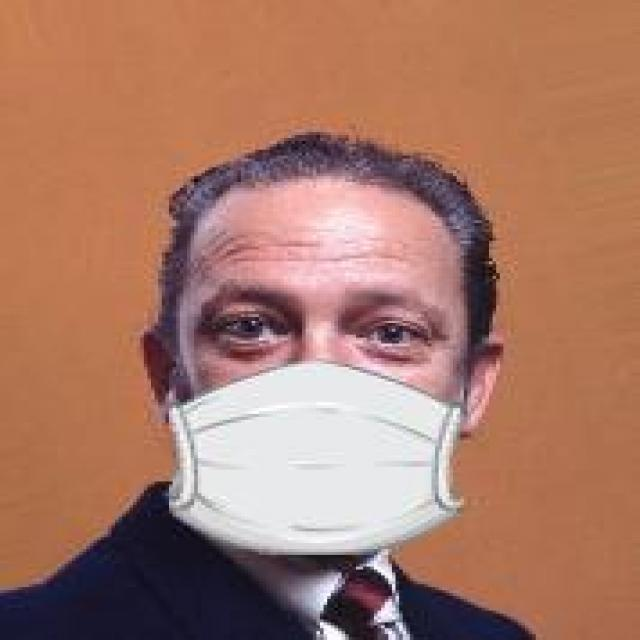mask: (108, 97, 575, 596)
